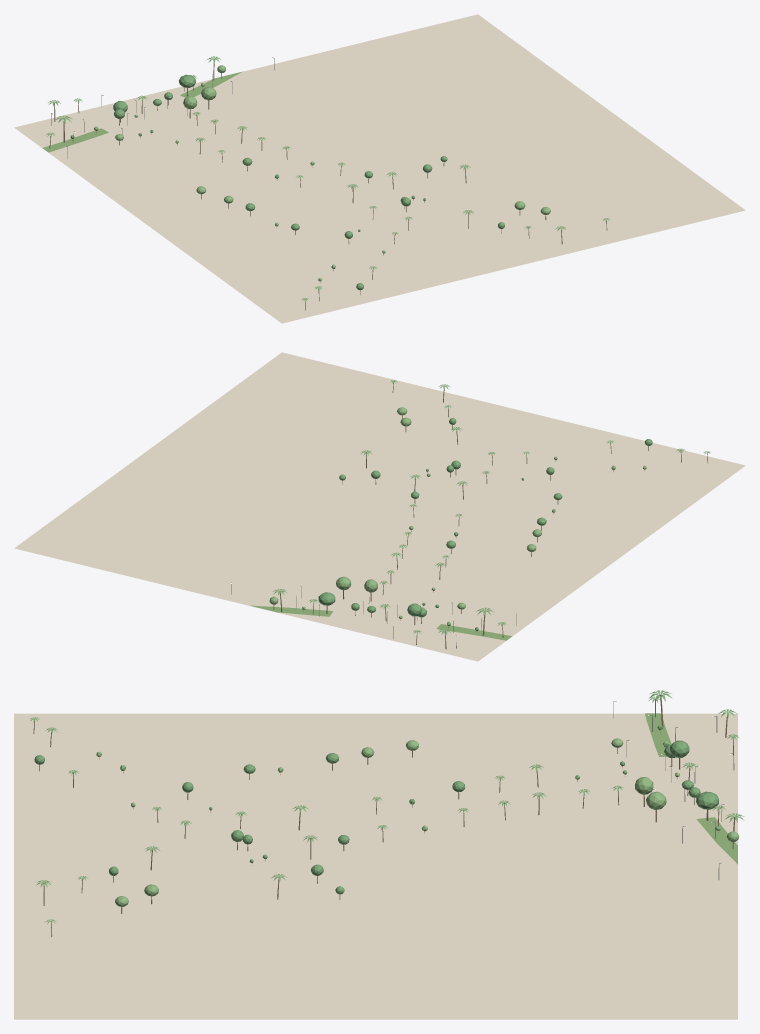
The model's file is nature_-1_4.glb.
The picture shows the model from 3 angles, top to bottom: view 1: azimuth 30°, elevation 25°; view 2: azimuth 150°, elevation 25°; view 3: azimuth 270°, elevation 25°; orthographic projection. The views are drawn at different scales.
Visible parts, largest first — view 1: ground, foliage_a, foliage_b, palm_leaf, grass, trunk; view 2: ground, foliage_a, grass, foliage_b, palm_leaf, trunk; view 3: ground, foliage_a, foliage_b, palm_leaf, grass, trunk.
Boxes of the visible parts, x1,y1,x2,y2 form: ground: (14,14,745,323); foliage_a: (70,74,504,290); foliage_b: (94,65,550,281); palm_leaf: (46,56,609,300); grass: (42,71,242,152); trunk: (49,62,607,310); ground: (14,352,745,661); foliage_a: (318,418,652,630); grass: (250,605,511,640); foliage_b: (269,407,646,626); palm_leaf: (273,380,710,634); trunk: (273,382,708,649); ground: (14,713,737,1019); foliage_a: (34,725,718,894); foliage_b: (96,738,738,906); palm_leaf: (30,690,744,924); grass: (645,713,737,864); trunk: (33,695,735,936).
Size of the model in its own units: 250 by 13.18 by 253.
